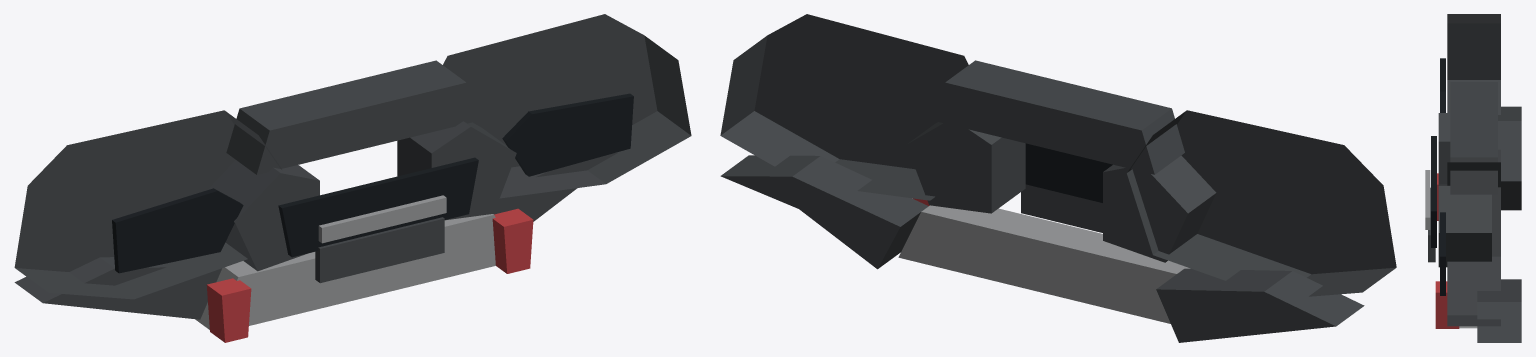
File: predator-v3.1.glb
The picture shows the model from 3 angles, left to right: view 1: azimuth 30°, elevation 25°; view 2: azimuth 150°, elevation 25°; view 3: azimuth 270°, elevation 25°; orthographic projection. The views are drawn at different scales.
Parts seen in each view (by area): view 1: left_wing, right_wing, centre_bridge, bash_plate, winch_opening, left_mesh, right_mesh, left_winch_shoulder, right_winch_shoulder, left_underpanel, plate_mount, fairlead (+3 smaller); view 2: left_wing, right_wing, bash_plate, centre_bridge, left_underpanel, right_underpanel, right_winch_shoulder, left_winch_shoulder, winch_opening, plate_mount; view 3: centre_bridge, right_wing, left_wing, right_winch_shoulder, right_underpanel, left_underpanel, left_winch_shoulder, winch_opening, recovery_1, right_mesh, fairlead, left_mesh (+2 smaller).
Part boxes in pixels (left/top/right/bottom): left_wing: left=14, top=110, right=281, bottom=299; right_wing: left=443, top=14, right=691, bottom=198; centre_bridge: left=226, top=60, right=479, bottom=174; bash_plate: left=195, top=214, right=495, bottom=329; winch_opening: left=278, top=157, right=478, bottom=257; left_mesh: left=112, top=188, right=243, bottom=273; right_mesh: left=502, top=93, right=633, bottom=176; left_winch_shoulder: left=208, top=160, right=319, bottom=271; right_winch_shoulder: left=397, top=121, right=516, bottom=220; left_underpanel: left=14, top=257, right=221, bottom=319; plate_mount: left=315, top=217, right=444, bottom=283; fairlead: left=318, top=195, right=446, bottom=243; left_wing: left=1126, top=110, right=1396, bottom=296; right_wing: left=720, top=14, right=968, bottom=200; bash_plate: left=898, top=205, right=1190, bottom=323; centre_bridge: left=932, top=60, right=1184, bottom=174; left_underpanel: left=1156, top=268, right=1364, bottom=342; right_underpanel: left=720, top=155, right=928, bottom=269; right_winch_shoulder: left=906, top=122, right=1025, bottom=213; left_winch_shoulder: left=1103, top=155, right=1216, bottom=262; winch_opening: left=1025, top=143, right=1112, bottom=202; plate_mount: left=1021, top=184, right=1102, bottom=232; centre_bridge: left=1450, top=82, right=1497, bottom=194; right_wing: left=1447, top=162, right=1500, bottom=326; left_wing: left=1447, top=14, right=1500, bottom=162; right_winch_shoulder: left=1438, top=184, right=1491, bottom=267; right_underpanel: left=1477, top=279, right=1521, bottom=342; left_underpanel: left=1498, top=106, right=1521, bottom=210; left_winch_shoulder: left=1438, top=113, right=1450, bottom=184; winch_opening: left=1431, top=136, right=1436, bottom=247; recovery_1: left=1435, top=281, right=1459, bottom=328; right_mesh: left=1440, top=212, right=1445, bottom=295; fairlead: left=1425, top=170, right=1430, bottom=229; left_mesh: left=1440, top=58, right=1445, bottom=112.
Size of the model in its own units: 1.96 by 0.57 by 0.325.
